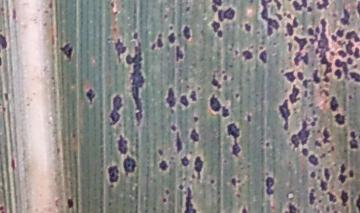tarspot: (124, 42, 147, 125), (315, 15, 331, 83), (256, 1, 278, 36), (225, 120, 243, 162), (291, 120, 312, 147), (108, 93, 125, 126), (104, 161, 123, 187), (279, 97, 292, 132), (190, 153, 206, 180), (262, 173, 278, 200), (121, 152, 138, 177), (57, 40, 76, 62), (183, 185, 197, 213), (114, 133, 131, 156), (113, 35, 127, 62), (164, 83, 177, 112), (292, 50, 312, 68), (207, 92, 221, 117), (215, 5, 236, 21), (179, 22, 195, 42), (283, 18, 301, 35), (82, 85, 97, 105), (292, 35, 310, 51), (285, 19, 301, 37), (150, 32, 165, 51), (347, 129, 359, 152), (326, 94, 340, 113), (338, 5, 351, 25), (283, 200, 303, 213), (256, 48, 271, 65), (305, 184, 316, 207), (319, 126, 333, 144), (289, 83, 301, 104), (240, 47, 255, 63), (282, 69, 297, 84), (208, 74, 222, 90), (172, 46, 186, 62), (187, 126, 200, 143), (165, 29, 178, 46), (306, 152, 319, 169), (177, 91, 189, 109), (333, 112, 347, 127), (345, 28, 360, 42), (339, 188, 350, 207), (290, 1, 307, 13), (1, 32, 11, 52), (241, 19, 254, 34), (347, 69, 360, 84), (178, 153, 190, 169), (220, 104, 232, 120), (210, 18, 222, 34), (63, 195, 76, 209), (226, 173, 239, 187), (156, 160, 171, 172), (174, 132, 183, 152), (311, 68, 321, 86), (327, 191, 339, 205), (315, 1, 330, 12), (333, 27, 345, 40), (318, 180, 329, 194), (188, 87, 197, 104), (322, 166, 332, 181), (335, 47, 347, 59), (336, 173, 349, 184), (352, 45, 360, 62), (334, 66, 343, 81), (190, 113, 201, 125), (175, 181, 186, 193), (261, 140, 274, 150), (217, 28, 226, 42), (306, 24, 315, 38), (308, 168, 318, 180), (296, 69, 305, 82), (338, 162, 347, 175), (305, 4, 314, 16), (232, 90, 242, 100), (243, 113, 253, 123), (207, 176, 217, 186), (156, 147, 165, 158), (168, 120, 176, 132), (347, 168, 355, 180), (212, 1, 224, 9), (131, 30, 139, 41)
